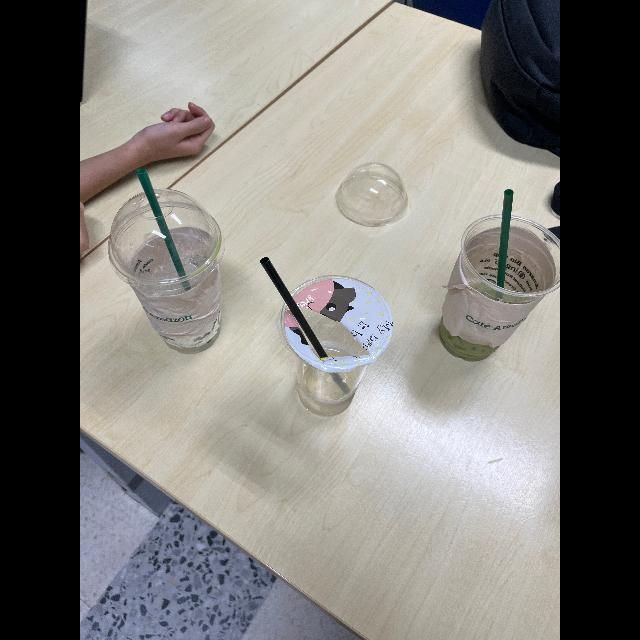plastic_cup: (434, 211, 560, 363), (108, 204, 228, 358), (272, 277, 398, 419)
plastic_cup_lid: (104, 184, 226, 290), (331, 158, 417, 230)
straw: (257, 253, 354, 397), (133, 163, 192, 292), (494, 189, 516, 302)
